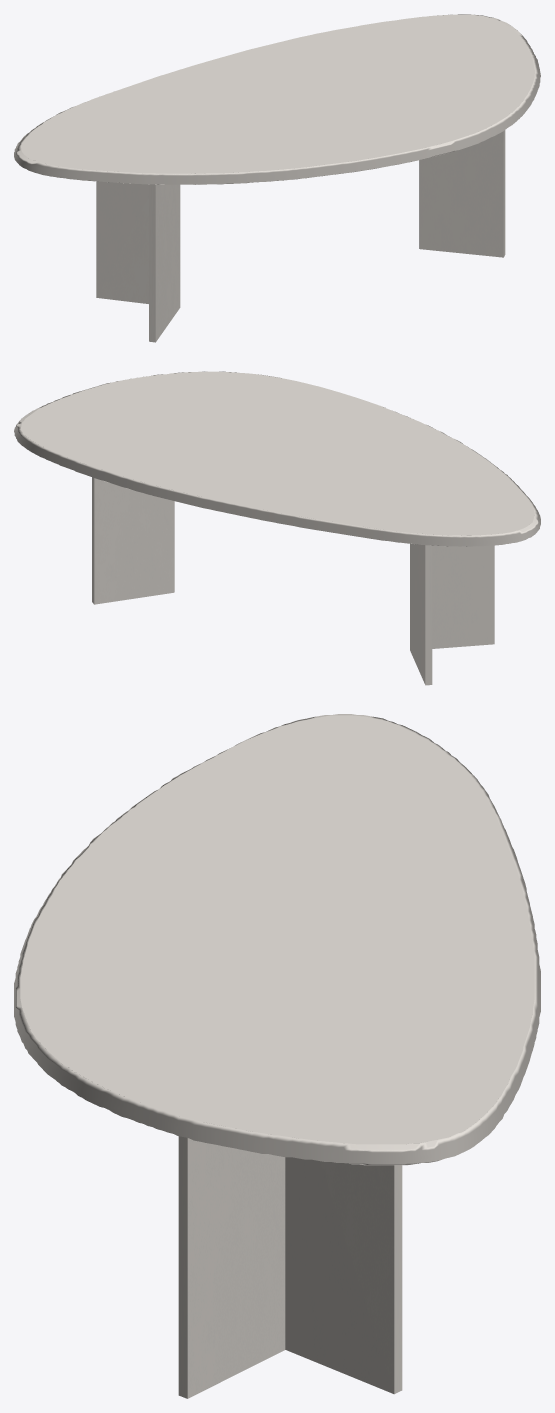
File: pearlwhite_pebbletop_round_valleyv.glb
3 renders of one model, top to bottom at view 1: azimuth 30°, elevation 25°; view 2: azimuth 150°, elevation 25°; view 3: azimuth 270°, elevation 25°, orthographic. The views are drawn at different scales.
Visible parts, largest first — view 1: round_pebbletop, valleyv; view 2: round_pebbletop, valleyv; view 3: round_pebbletop, valleyv.
Part boxes in pixels (x1=…): round_pebbletop: x1=14, y1=14, x2=540, y2=184; valleyv: x1=96, y1=130, x2=505, y2=342; round_pebbletop: x1=14, y1=371, x2=540, y2=546; valleyv: x1=92, y1=477, x2=494, y2=685; round_pebbletop: x1=14, y1=714, x2=540, y2=1165; valleyv: x1=178, y1=1136, x2=402, y2=1398.
Size of the model in its own units: 7.69 by 2.5 by 3.89.
Materials: 1 (1 with a texture image).
